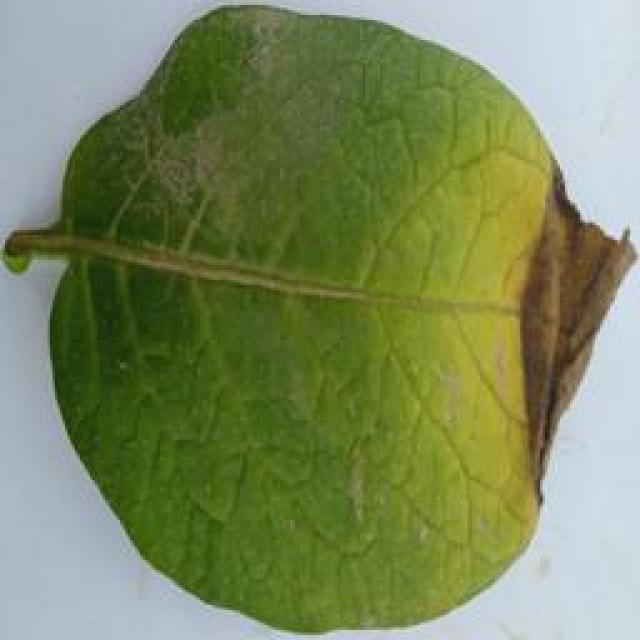Potato_Late_Blight: (6, 6, 624, 632)
